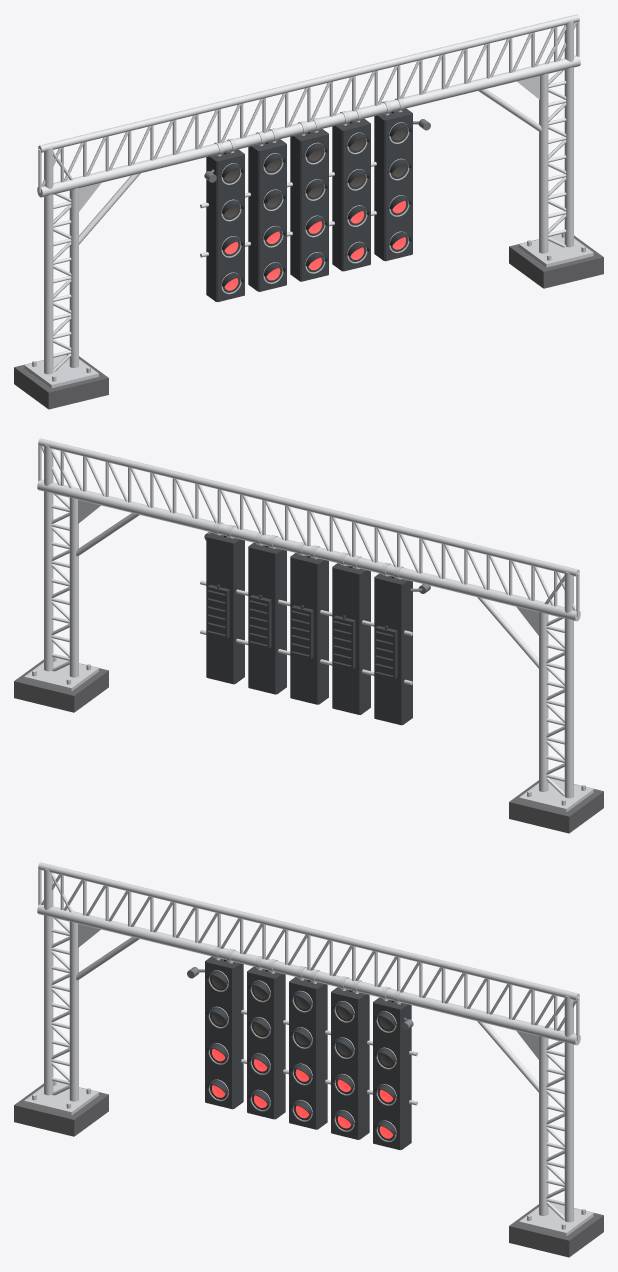
The model's file is f1-start-gantry.glb.
The picture shows the model from 3 angles, top to bottom: view 1: azimuth 30°, elevation 25°; view 2: azimuth 150°, elevation 25°; view 3: azimuth 330°, elevation 25°; orthographic projection.
Visible parts, largest first — view 1: Gantry_Lacing_Web, Gantry_Main_Pipe, Gantry_Tower_Left, Gantry_Tower_Right, LightBox_3, LightBox_4, LightBox_2, LightBox_5, LightBox_1, Gantry_Top_Rail, Gantry_Base_Hardware, Gantry_Base_Left (+8 smaller); view 2: Gantry_Lacing_Web, Gantry_Main_Pipe, Gantry_Tower_Left, Gantry_Tower_Right, LightBox_4, LightBox_5, LightBox_3, LightBox_1, LightBox_2, Gantry_Top_Rail, Gantry_Base_Hardware, Gantry_Base_Left (+9 smaller); view 3: Gantry_Lacing_Web, Gantry_Main_Pipe, Gantry_Tower_Right, Gantry_Tower_Left, LightBox_3, LightBox_2, LightBox_4, LightBox_1, LightBox_5, Gantry_Top_Rail, Gantry_Base_Hardware, Gantry_Base_Right (+8 smaller).
Boxes of the visible parts, x1,y1,x2,y2 form: Gantry_Lacing_Web: (38, 21, 579, 192); Gantry_Main_Pipe: (37, 55, 580, 197); Gantry_Tower_Left: (44, 148, 78, 374); Gantry_Tower_Right: (539, 21, 573, 253); LightBox_3: (290, 129, 328, 281); LightBox_4: (332, 118, 370, 271); LightBox_2: (248, 139, 286, 291); LightBox_5: (374, 108, 412, 261); LightBox_1: (206, 149, 244, 301); Gantry_Top_Rail: (38, 14, 579, 152); Gantry_Base_Hardware: (24, 233, 593, 388); Gantry_Base_Left: (14, 356, 108, 409); Gantry_Lacing_Web: (38, 445, 579, 616); Gantry_Main_Pipe: (37, 479, 580, 621); Gantry_Tower_Left: (539, 572, 573, 798); Gantry_Tower_Right: (44, 445, 78, 677); LightBox_4: (248, 542, 286, 694); LightBox_5: (206, 532, 244, 684); LightBox_3: (290, 553, 328, 704); LightBox_1: (374, 573, 412, 725); LightBox_2: (332, 563, 370, 714); Gantry_Top_Rail: (38, 438, 579, 576); Gantry_Base_Hardware: (24, 657, 593, 812); Gantry_Base_Left: (509, 780, 603, 833); Gantry_Lacing_Web: (38, 869, 579, 1040); Gantry_Main_Pipe: (37, 904, 580, 1045); Gantry_Tower_Right: (539, 996, 573, 1222); Gantry_Tower_Left: (44, 869, 78, 1101); LightBox_3: (289, 977, 327, 1129); LightBox_2: (247, 966, 285, 1119); LightBox_4: (331, 987, 369, 1139); LightBox_1: (205, 956, 243, 1109); LightBox_5: (373, 997, 411, 1149); Gantry_Top_Rail: (38, 862, 579, 1000); Gantry_Base_Hardware: (24, 1081, 593, 1236); Gantry_Base_Right: (509, 1204, 603, 1257).
Bounding box in the file's own units: 5.16 × 2.21 × 0.56.
